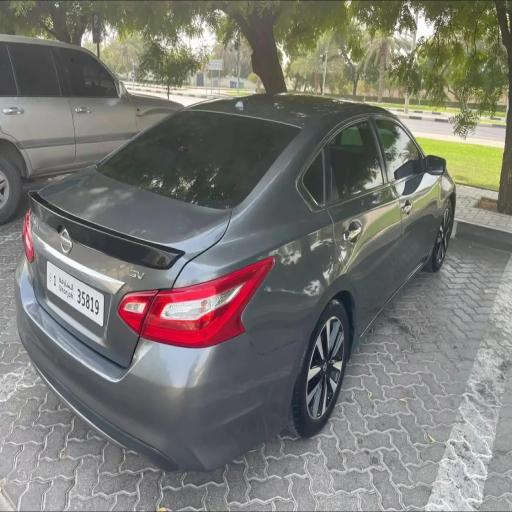license-plates: (47, 261, 104, 326)
